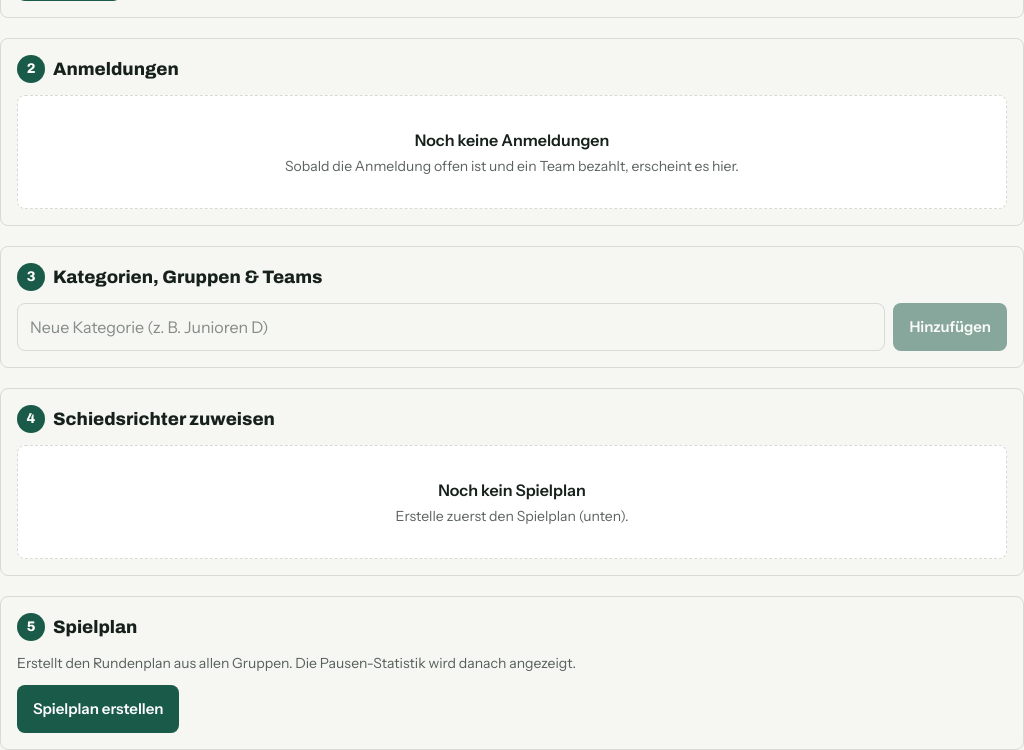
Test: schedule generation blockers › uses the singular for one team
(page scrolled)
What coordinates should you click on to do the following:
click the button "Spielplan erstellen"
I would click on:
 (98, 709)
Its box is [17,685,180,733].
(page scrolled)
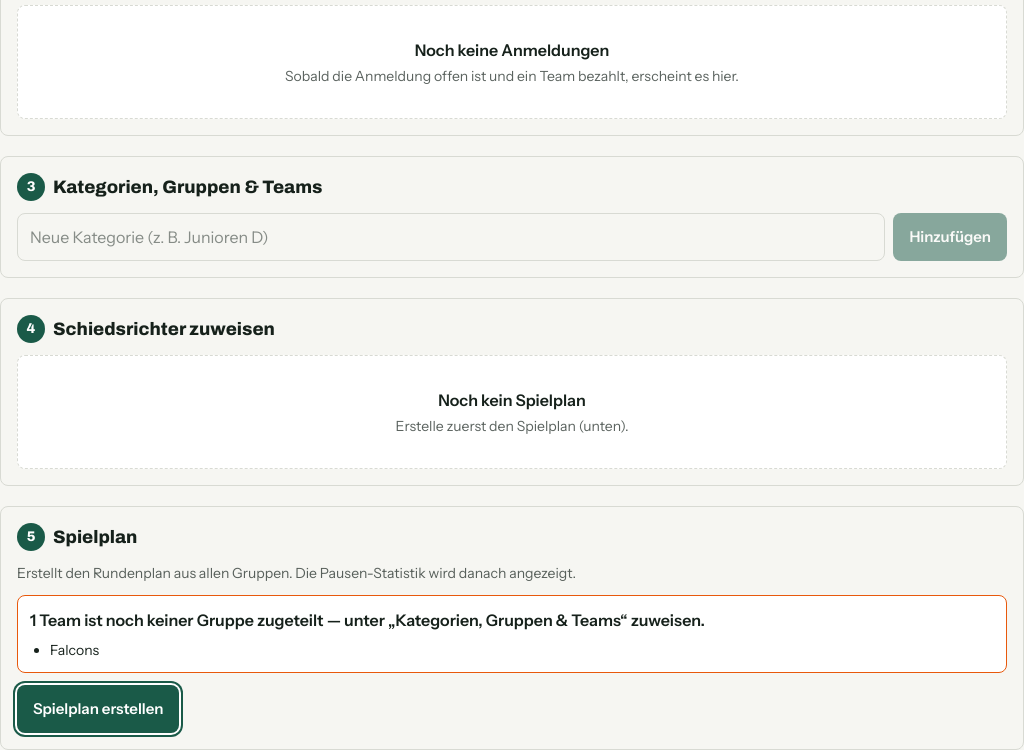
Check: the message shows "1 Team ist noch keiner Gruppe", box [30,610,705,630]
